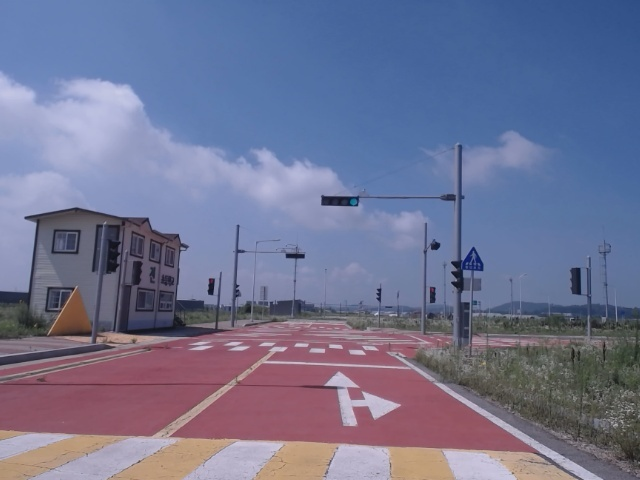straight_green_4: (320, 197, 359, 207)
